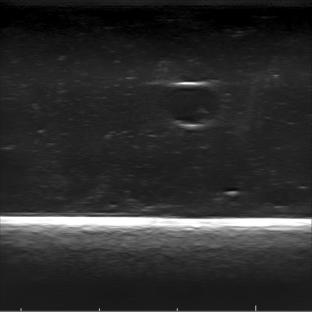vessel: (162, 81, 220, 129)
